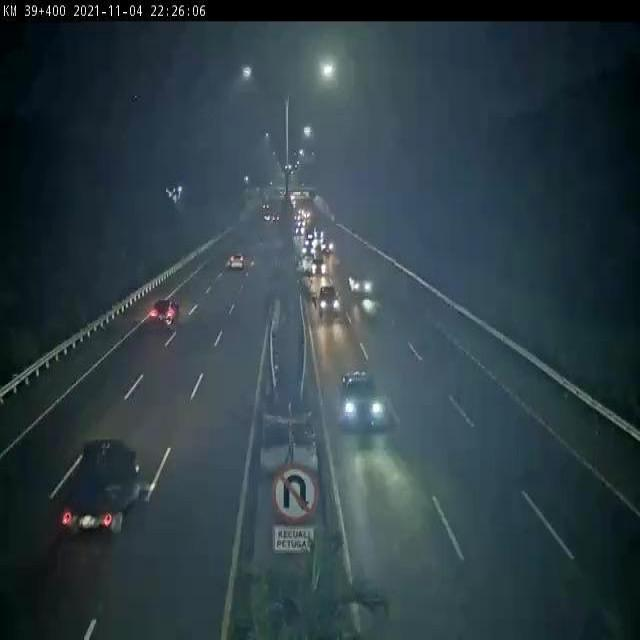car: (333, 361, 397, 448), (142, 292, 180, 331), (346, 268, 385, 296), (313, 290, 344, 318), (224, 252, 254, 275), (309, 259, 333, 277)
truck-s-: (52, 425, 152, 555)
